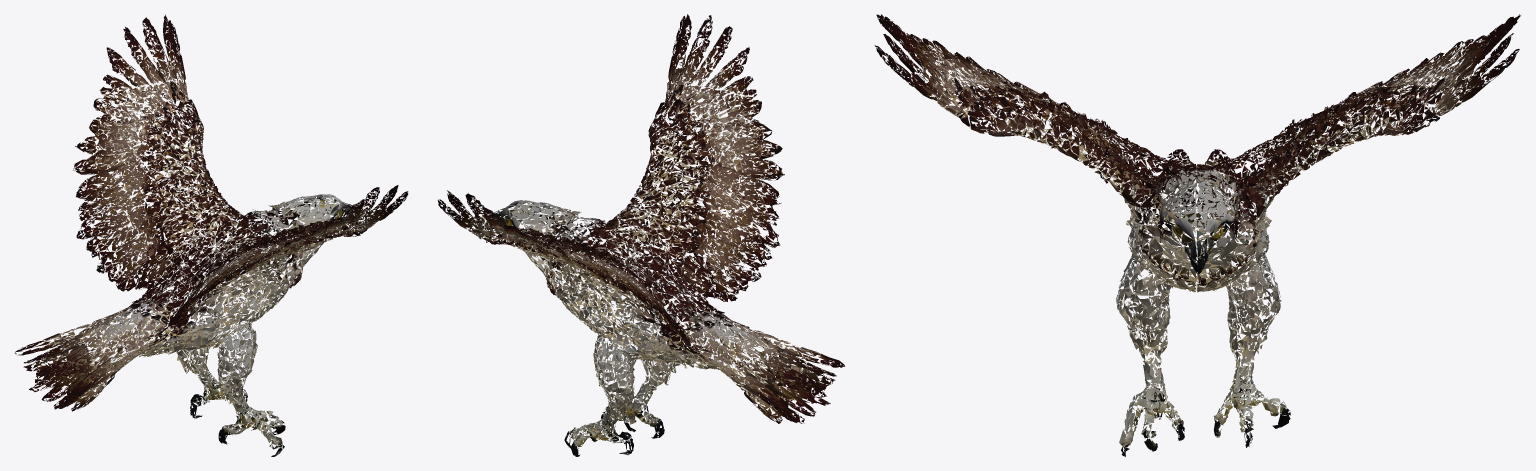
File: osprey-build44.glb
The picture shows the model from 3 angles, left to right: view 1: azimuth 30°, elevation 25°; view 2: azimuth 150°, elevation 25°; view 3: azimuth 270°, elevation 25°; orthographic projection. The views are drawn at different scales.
Parts seen in each view (by area): view 1: osprey; view 2: osprey; view 3: osprey.
Part boxes in pixels (left/top/right/bottom): osprey: left=15, top=14, right=408, bottom=456; osprey: left=437, top=14, right=844, bottom=456; osprey: left=874, top=14, right=1520, bottom=456.
Bounding box in the file's own units: 0.7958 × 0.7674 × 0.9993.
Materials: 1 (1 with a texture image).
